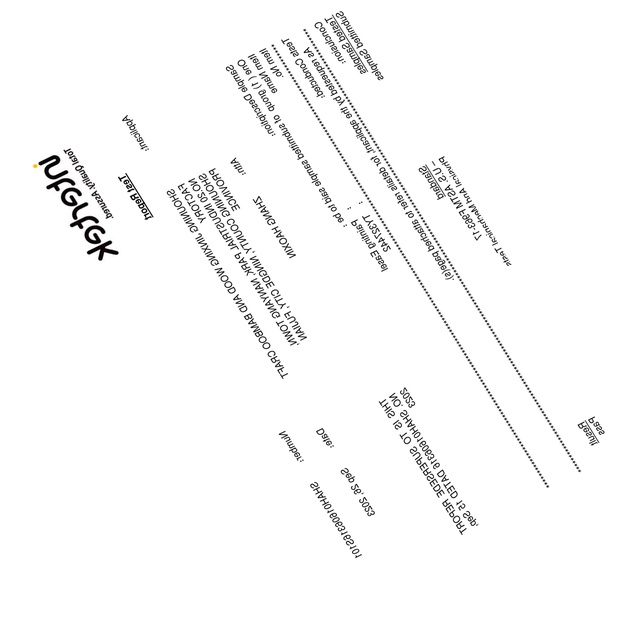intertek: (27, 141, 120, 268)
